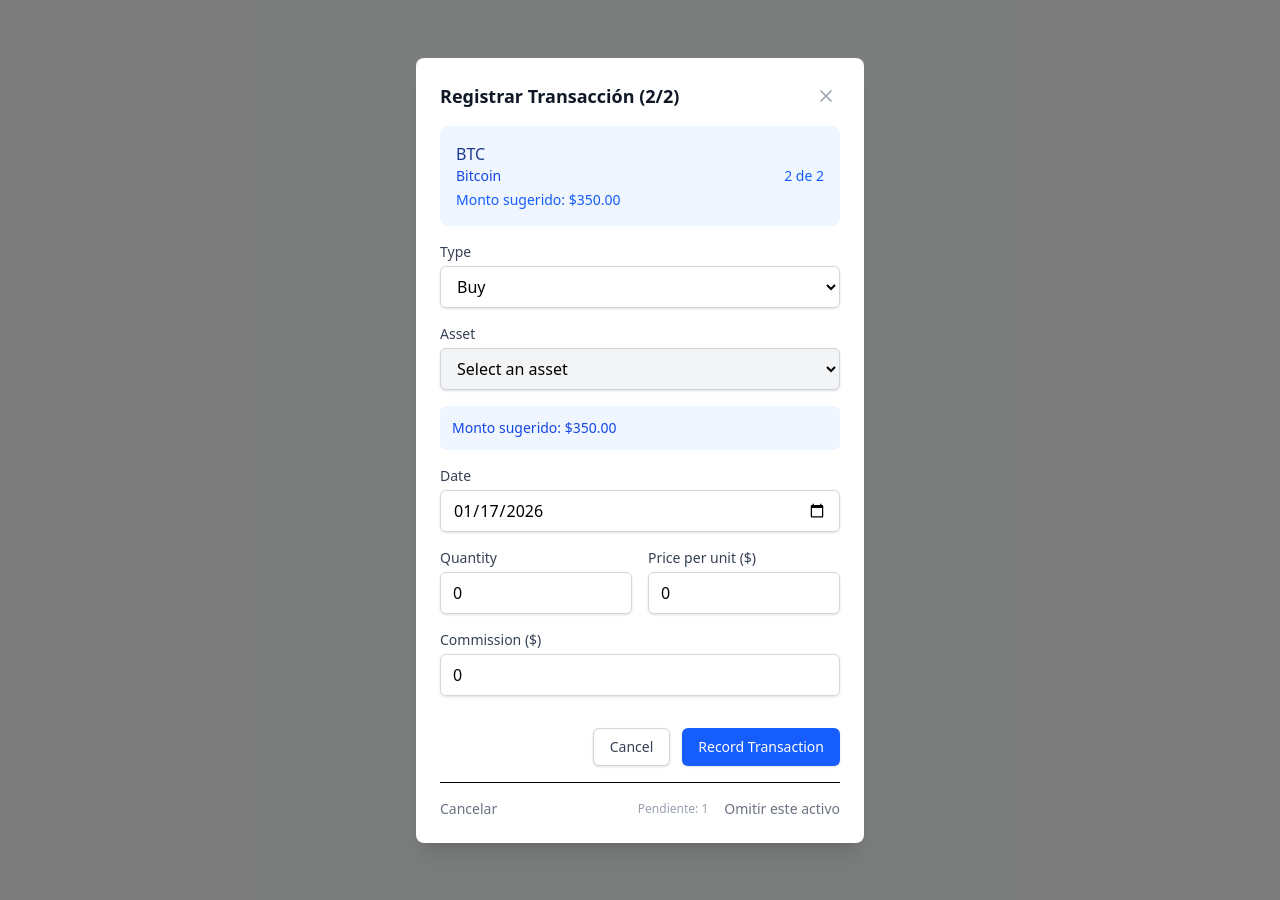
ContributionFlowModal › should show completion summary after all assets processed
Expected: the text "BTC" is shown, 456,142 -> 485,164
Step 1. Click the button "Omitir este activo" → click(782, 808), box 724,798 -> 840,818
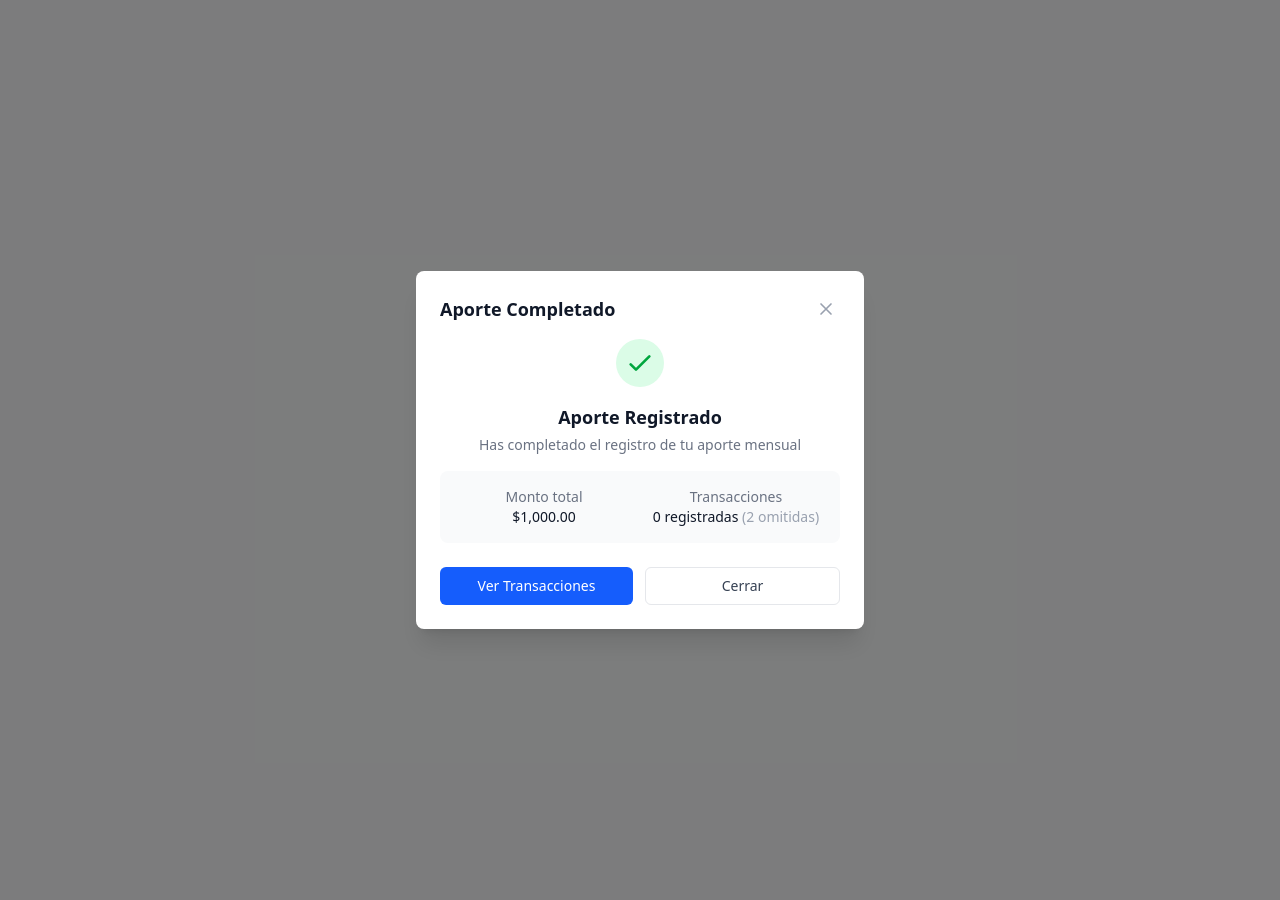
Now the heading "Aporte Registrado" is shown, box 558,405 -> 722,429
